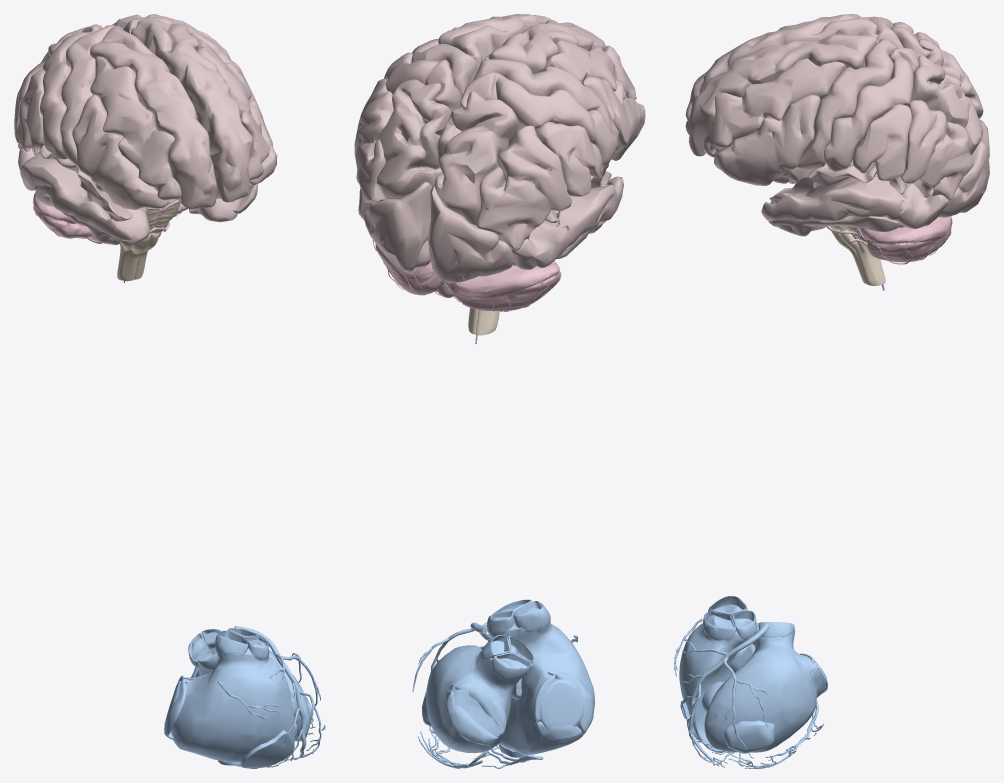
Rendered from brain.glb.
3 renders of one model, left to right at view 1: azimuth 30°, elevation 25°; view 2: azimuth 150°, elevation 25°; view 3: azimuth 270°, elevation 25°, orthographic. The views are drawn at different scales.
Parts seen in each view (by area): view 1: cerebrum, ventricles, brainstem, cerebellum; view 2: cerebrum, ventricles, cerebellum, brainstem; view 3: cerebrum, ventricles, cerebellum, brainstem.
Boxes of the visible parts, x1=… form: cerebrum: x1=14, y1=14, x2=277, y2=246; ventricles: x1=123, y1=281, x2=325, y2=768; brainstem: x1=117, y1=199, x2=180, y2=281; cerebellum: x1=32, y1=192, x2=188, y2=243; cerebrum: x1=354, y1=14, x2=645, y2=283; ventricles: x1=412, y1=335, x2=594, y2=768; cerebellum: x1=372, y1=240, x2=561, y2=311; brainstem: x1=468, y1=308, x2=499, y2=335; cerebrum: x1=685, y1=14, x2=989, y2=236; ventricles: x1=674, y1=234, x2=884, y2=768; cerebellum: x1=826, y1=216, x2=952, y2=264; brainstem: x1=829, y1=225, x2=885, y2=285.
Size of the model in its own units: 0.1493 by 0.4555 by 0.1869.
